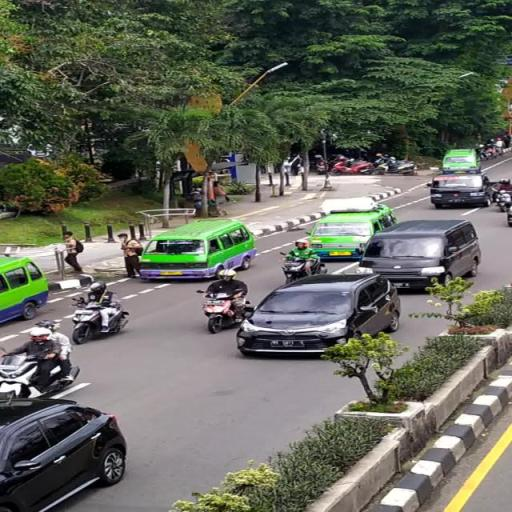Helmet: (29, 328, 51, 342), (36, 320, 59, 331), (89, 281, 106, 295), (218, 269, 236, 279), (296, 239, 308, 248), (500, 179, 510, 185), (499, 190, 506, 194), (376, 153, 383, 157)
Motor: (0, 355, 72, 398), (197, 290, 243, 333), (72, 300, 103, 344), (283, 258, 327, 283), (374, 156, 416, 175), (331, 159, 373, 175), (492, 179, 511, 202), (314, 154, 328, 174), (498, 192, 511, 211), (476, 144, 490, 161), (484, 143, 498, 159)
